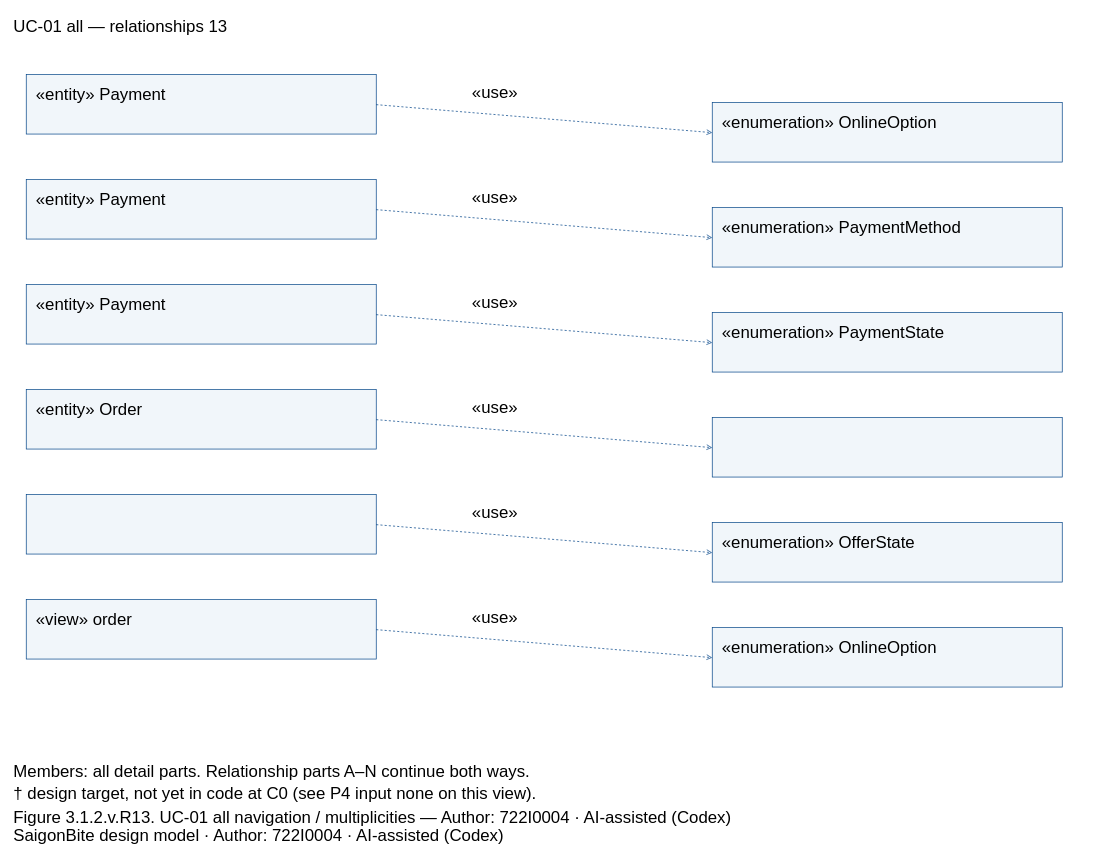
Some shapes in this 1095 by 858 pixel diagram are drawn without their labels. The centre of each missing label's shape, as x and y in pixels:
"«entity» ReplacementOffer" goes at point (201, 524).
"«enumeration» OrderState" goes at point (887, 447).
